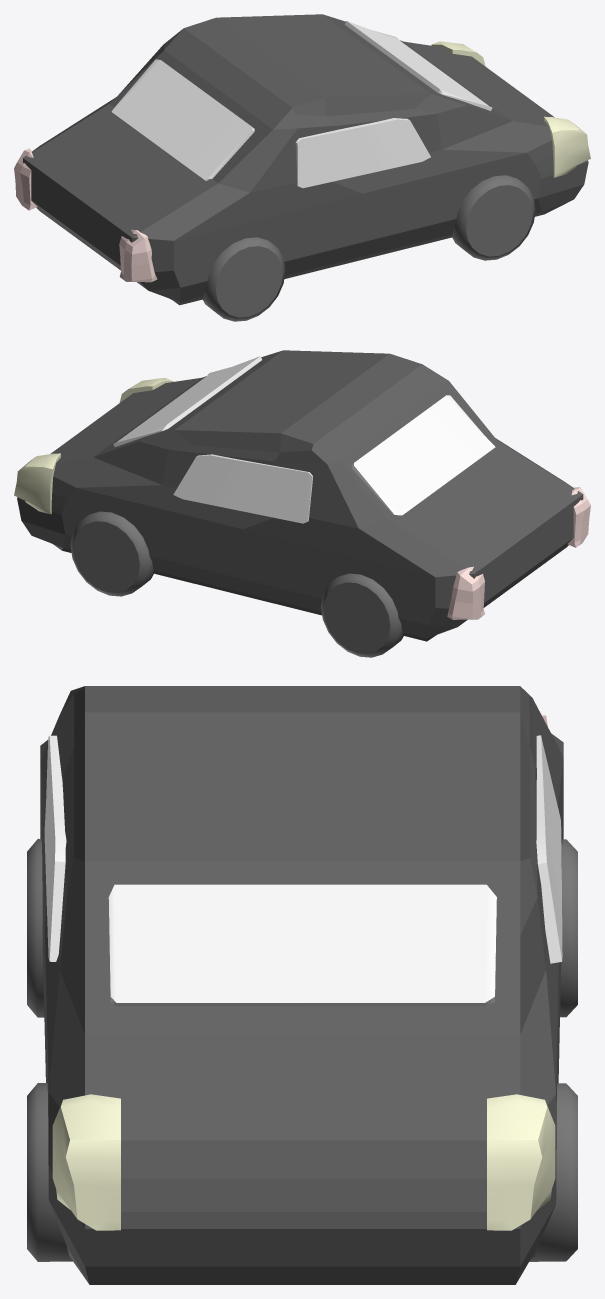
The model's file is CarroNegro.fbx.
3 views of the same model, one above another, from view 1: azimuth 30°, elevation 25°; view 2: azimuth 150°, elevation 25°; view 3: azimuth 270°, elevation 25° (orthographic). The views are drawn at different scales.
Parts seen in each view (by area): view 1: pCube1, pCube10, pCube8, pCylinder1, pCylinder2, pCube6, pCube11, pCube9; view 2: pCube1, pCube10, pCube12, pCylinder3, pCylinder4, pCube6, pCube11, pCube9; view 3: pCube1, pCube6, pCube9, pCylinder1, pCylinder3, pCube12, pCube8, pCylinder4, pCylinder2.
Part boxes in pixels (x1,y1,x2,y2): pCube1: [23, 14, 588, 305]; pCube10: [111, 59, 254, 180]; pCube8: [295, 118, 430, 188]; pCylinder1: [452, 175, 535, 260]; pCylinder2: [203, 237, 285, 321]; pCube6: [344, 21, 492, 110]; pCube11: [14, 148, 157, 282]; pCube9: [431, 41, 590, 177]; pCube1: [17, 350, 583, 641]; pCube10: [351, 395, 495, 516]; pCube12: [173, 454, 312, 523]; pCylinder3: [70, 511, 153, 596]; pCylinder4: [321, 573, 403, 657]; pCube6: [113, 356, 261, 446]; pCube11: [447, 487, 590, 619]; pCube9: [14, 378, 173, 514]; pCube1: [40, 686, 563, 1284]; pCube6: [108, 884, 496, 1006]; pCube9: [52, 1094, 555, 1230]; pCylinder1: [27, 1083, 72, 1261]; pCylinder3: [529, 1083, 577, 1261]; pCube12: [536, 735, 562, 963]; pCube8: [44, 735, 66, 961]; pCylinder4: [560, 839, 577, 1017]; pCylinder2: [27, 838, 44, 1017].
Bounding box in the file's own units: 21.52 × 8.56 × 11.09.
